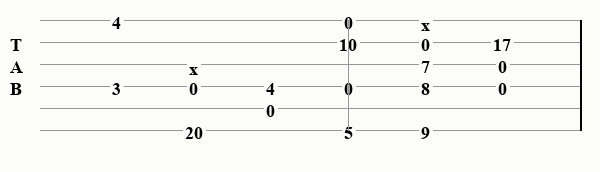0: (189, 78, 202, 94), (266, 100, 279, 116), (344, 12, 357, 28), (344, 78, 357, 94), (421, 34, 434, 50), (498, 78, 511, 94), (498, 56, 511, 72)
10: (339, 34, 361, 50)
17: (493, 34, 515, 50)
20: (185, 122, 207, 138)
3: (112, 78, 125, 94)
4: (112, 12, 125, 28), (266, 78, 279, 94)
5: (344, 122, 357, 138)
7: (421, 56, 434, 72)
8: (421, 78, 434, 94)
9: (421, 122, 434, 138)
x: (189, 58, 202, 70), (421, 14, 434, 26)
